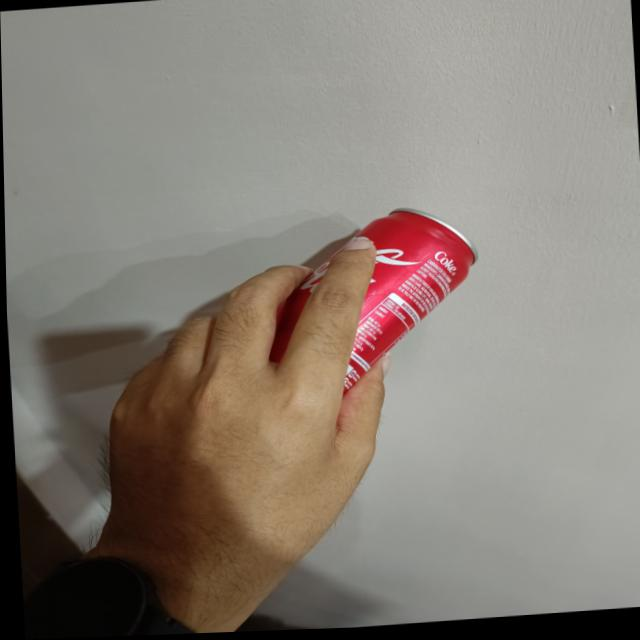coke: (223, 204, 486, 412)
